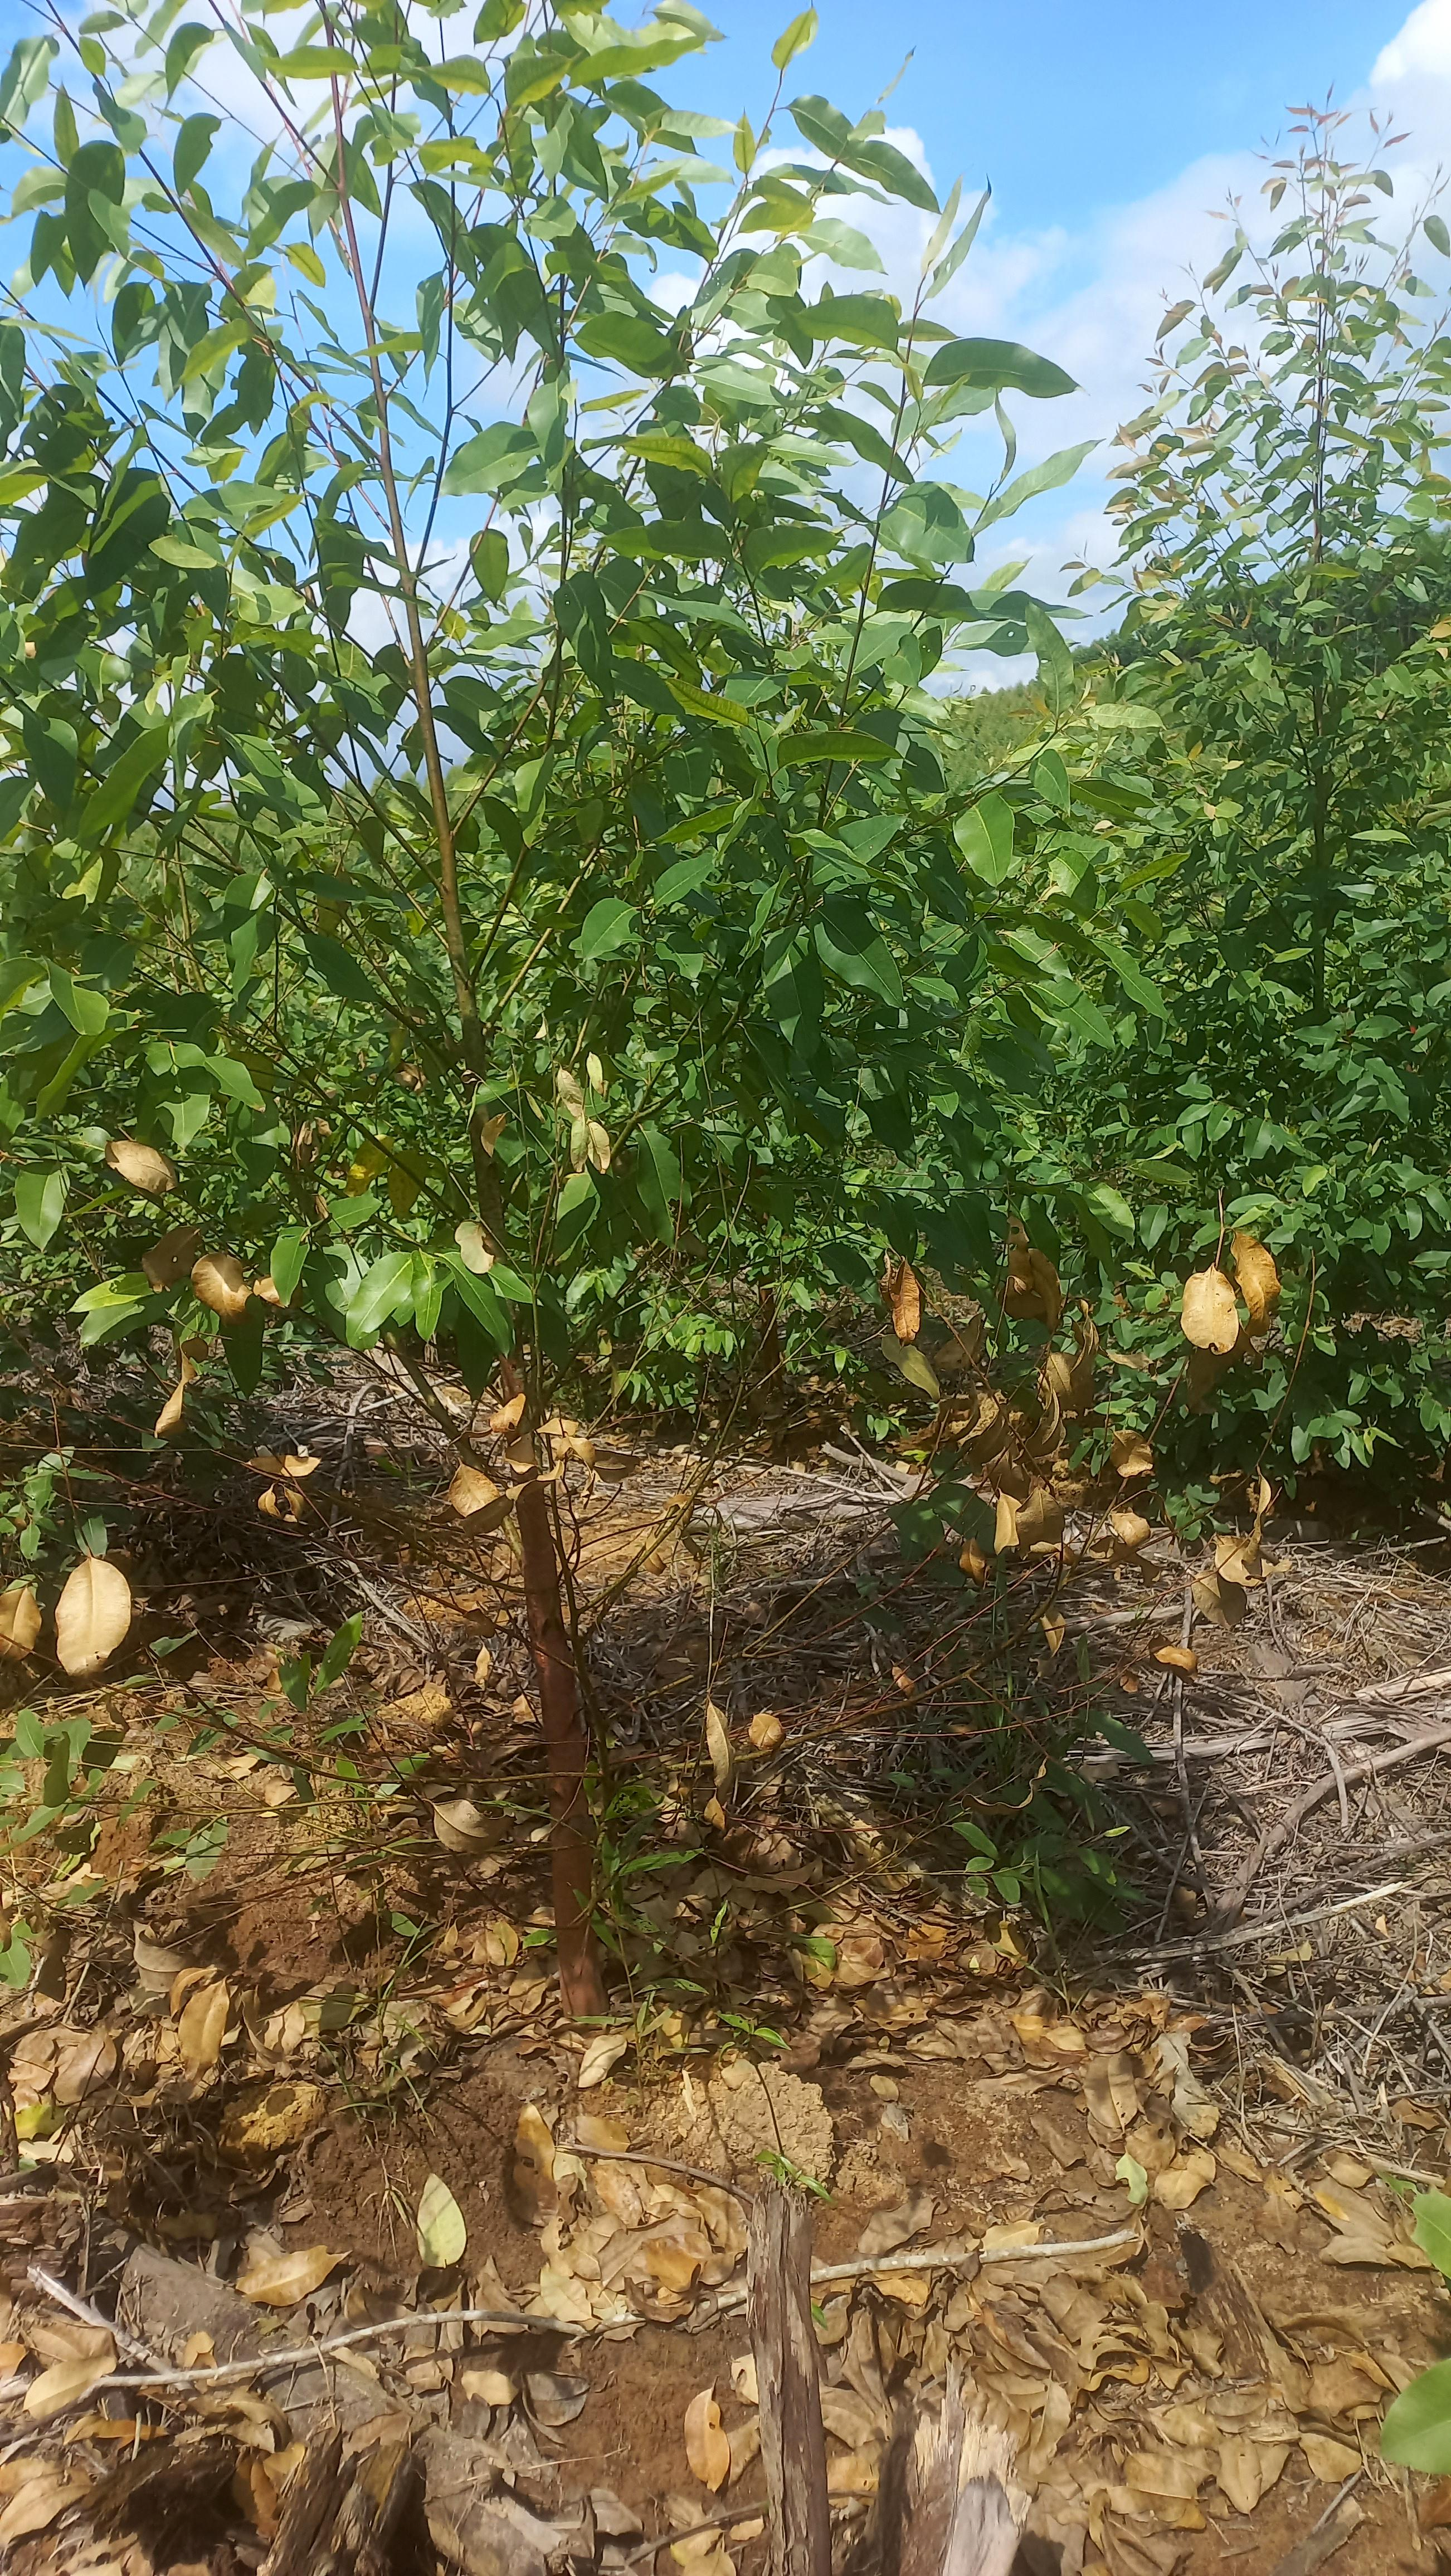Wither Tree Parts: (795, 1092, 1322, 1700), (0, 1074, 342, 1700), (434, 1323, 653, 1589)
